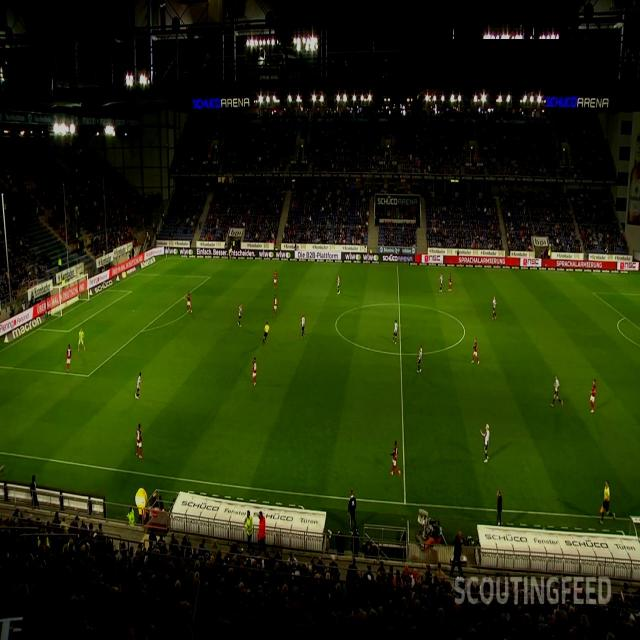ball: (80, 336, 83, 344)
goalkeeper: (77, 328, 86, 352)
player: (389, 440, 401, 476), (550, 375, 563, 407), (481, 422, 490, 462), (135, 422, 143, 458), (590, 378, 596, 412), (472, 338, 479, 364), (66, 344, 72, 372), (136, 372, 142, 398), (492, 295, 498, 320), (252, 356, 257, 386), (417, 344, 422, 374), (393, 319, 398, 345), (300, 314, 305, 338), (187, 292, 192, 314), (336, 274, 341, 294), (238, 303, 242, 327), (274, 294, 278, 316), (439, 272, 443, 292), (273, 270, 277, 290), (448, 272, 452, 292)
referee: (600, 480, 616, 524), (262, 320, 270, 345)
